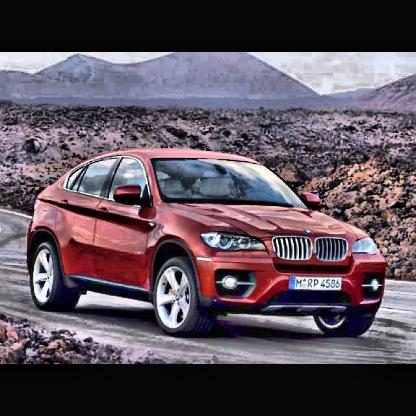BMW X6 SUV 2012: (26, 150, 390, 342)
